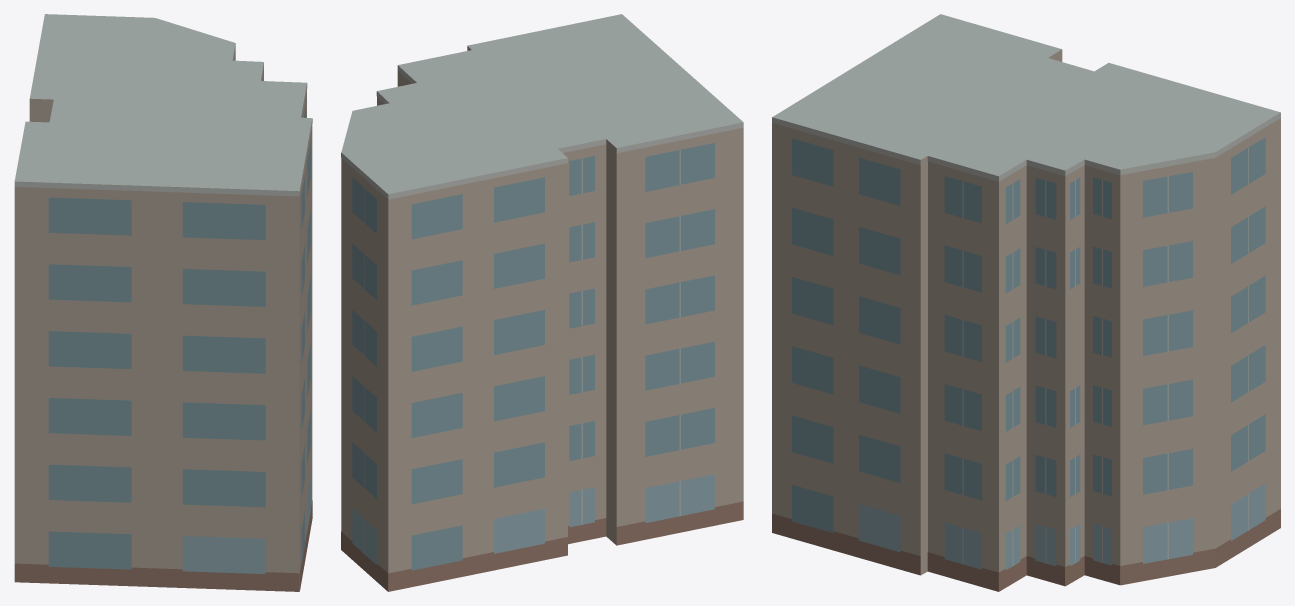
Rendered from survey-upis-32708316.glb.
3 renders of one model, left to right at view 1: azimuth 30°, elevation 25°; view 2: azimuth 150°, elevation 25°; view 3: azimuth 270°, elevation 25°, orthographic. The views are drawn at different scales.
Visible parts, largest first — view 1: survey-upis-32708316.tmp; view 2: survey-upis-32708316.tmp; view 3: survey-upis-32708316.tmp.
Part boxes in pixels (bbox=[...]): survey-upis-32708316.tmp: bbox=[14, 14, 312, 591]; survey-upis-32708316.tmp: bbox=[341, 14, 743, 591]; survey-upis-32708316.tmp: bbox=[772, 14, 1280, 591].
Bounding box in the file's own units: 15.33 × 18.3 × 20.31.
